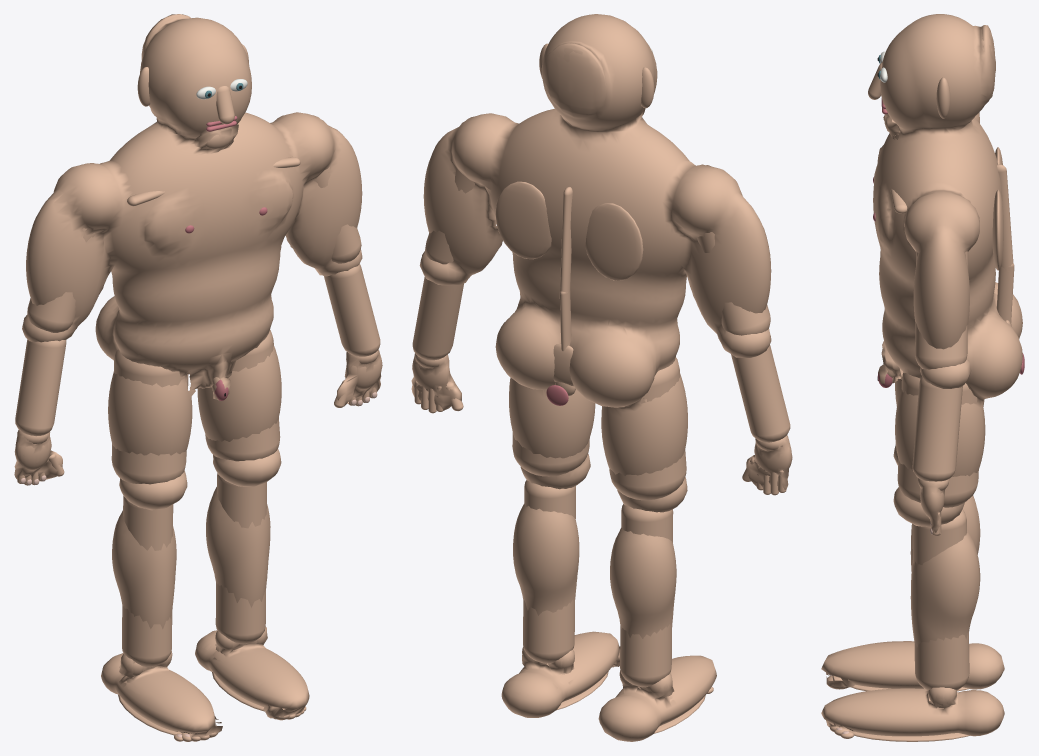
The model's file is body-kind-maennlich-v2.glb.
3 views of the same model, side by side, from view 1: azimuth 30°, elevation 25°; view 2: azimuth 150°, elevation 25°; view 3: azimuth 270°, elevation 25° (orthographic). The views are drawn at different scales.
Visible parts, largest first — view 1: zone__visual-surface-body-kind-maennlich, zone__surface-lower-leg-left, zone__surface-lower-leg-right, zone__surface-forearm-left, zone__surface-thigh-left, zone__surface-forearm-right, zone__surface-thigh-right, zone__surface-upper-arm-left, zone__surface-upper-arm-right; view 2: zone__visual-surface-body-kind-maennlich, zone__surface-lower-leg-left, zone__surface-lower-leg-right, zone__surface-forearm-left, zone__surface-scapula-left, zone__surface-scapula-right, zone__surface-forearm-right, zone__surface-thigh-left, zone__surface-upper-arm-left, zone__surface-thigh-right, zone__surface-thoracic-spine, zone__surface-upper-arm-right (+2 smaller); view 3: zone__visual-surface-body-kind-maennlich, zone__surface-lower-leg-right, zone__surface-forearm-right, zone__surface-thigh-right, zone__surface-upper-arm-right, zone__surface-thoracic-spine, zone__surface-lumbar-spine, zone__surface-scapula-right, zone__surface-sole-right, zone__surface-ear-right.
Boxes of the visible parts, x1=… form: zone__visual-surface-body-kind-maennlich: x1=14, y1=14, x2=382, y2=736; zone__surface-lower-leg-left: x1=122, y1=495, x2=173, y2=667; zone__surface-lower-leg-right: x1=215, y1=473, x2=266, y2=644; zone__surface-forearm-left: x1=15, y1=339, x2=66, y2=436; zone__surface-thigh-left: x1=111, y1=349, x2=188, y2=484; zone__surface-forearm-right: x1=324, y1=264, x2=380, y2=356; zone__surface-thigh-right: x1=205, y1=330, x2=280, y2=461; zone__surface-upper-arm-left: x1=27, y1=228, x2=95, y2=332; zone__surface-upper-arm-right: x1=314, y1=167, x2=361, y2=263; zone__visual-surface-body-kind-maennlich: x1=411, y1=14, x2=792, y2=741; zone__surface-lower-leg-left: x1=620, y1=504, x2=673, y2=687; zone__surface-lower-leg-right: x1=523, y1=480, x2=575, y2=663; zone__surface-forearm-left: x1=731, y1=345, x2=790, y2=442; zone__surface-scapula-left: x1=585, y1=203, x2=643, y2=280; zone__surface-scapula-right: x1=495, y1=181, x2=551, y2=259; zone__surface-forearm-right: x1=412, y1=277, x2=463, y2=360; zone__surface-thigh-left: x1=609, y1=357, x2=686, y2=500; zone__surface-upper-arm-left: x1=696, y1=232, x2=770, y2=335; zone__surface-thigh-right: x1=512, y1=433, x2=589, y2=476; zone__surface-thoracic-spine: x1=560, y1=186, x2=572, y2=297; zone__surface-upper-arm-right: x1=425, y1=168, x2=474, y2=264; zone__visual-surface-body-kind-maennlich: x1=821, y1=14, x2=1022, y2=736; zone__surface-lower-leg-right: x1=912, y1=509, x2=969, y2=690; zone__surface-forearm-right: x1=912, y1=376, x2=962, y2=481; zone__surface-thigh-right: x1=897, y1=373, x2=978, y2=507; zone__surface-upper-arm-right: x1=915, y1=251, x2=968, y2=369; zone__surface-thoracic-spine: x1=997, y1=164, x2=1013, y2=271; zone__surface-lumbar-spine: x1=996, y1=263, x2=1014, y2=323; zone__surface-scapula-right: x1=992, y1=189, x2=1003, y2=270; zone__surface-sole-right: x1=850, y1=730, x2=969, y2=741; zone__surface-ear-right: x1=936, y1=77, x2=950, y2=118.
Bounding box in the file's own units: 0.8091 × 1.42 × 0.3803.
